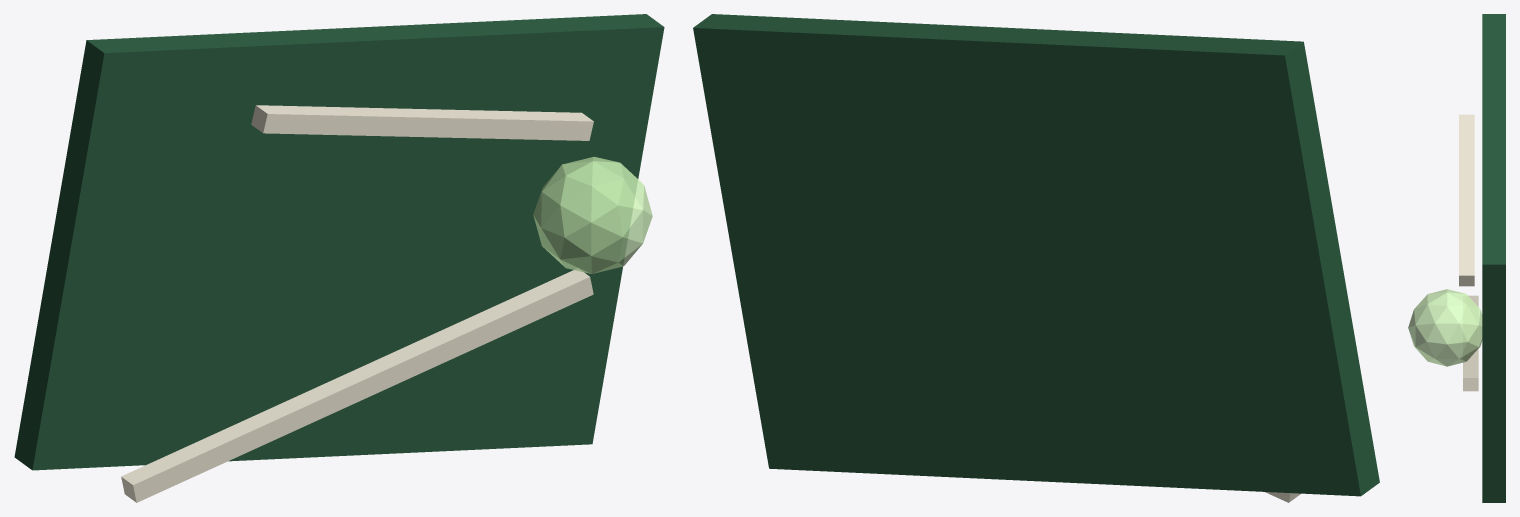
Rendered from 02_world_prop_polish.glb.
The picture shows the model from 3 angles, left to right: view 1: azimuth 30°, elevation 25°; view 2: azimuth 150°, elevation 25°; view 3: azimuth 270°, elevation 25°; orthographic projection. The views are drawn at different scales.
Parts seen in each view (by area): view 1: object_overlay_plate, edge_wear_a, glow_socket, edge_wear_b; view 2: object_overlay_plate; view 3: object_overlay_plate, glow_socket, edge_wear_b, edge_wear_a.
Part boxes in pixels (bbox=[...]): object_overlay_plate: bbox=[14, 14, 664, 470]; edge_wear_a: bbox=[121, 269, 593, 502]; glow_socket: bbox=[533, 156, 652, 273]; edge_wear_b: bbox=[251, 105, 593, 140]; object_overlay_plate: bbox=[693, 14, 1379, 496]; object_overlay_plate: bbox=[1482, 14, 1505, 502]; glow_socket: bbox=[1408, 289, 1482, 366]; edge_wear_b: bbox=[1459, 114, 1474, 286]; edge_wear_a: bbox=[1463, 295, 1478, 391].
Size of the model in its own units: 1.22 by 0.9408 by 0.25.
